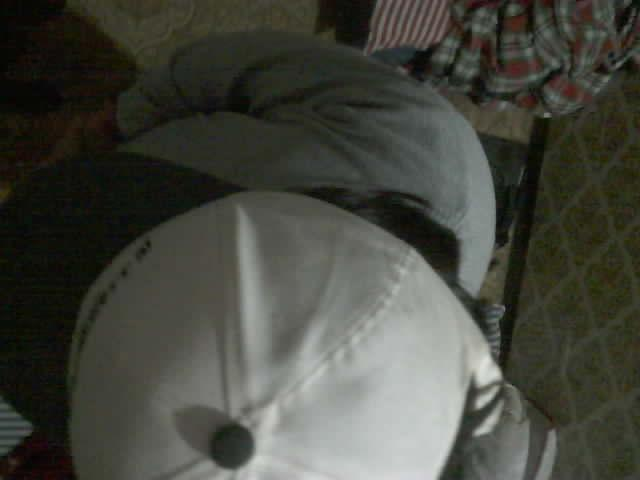cap: (67, 190, 503, 479)
